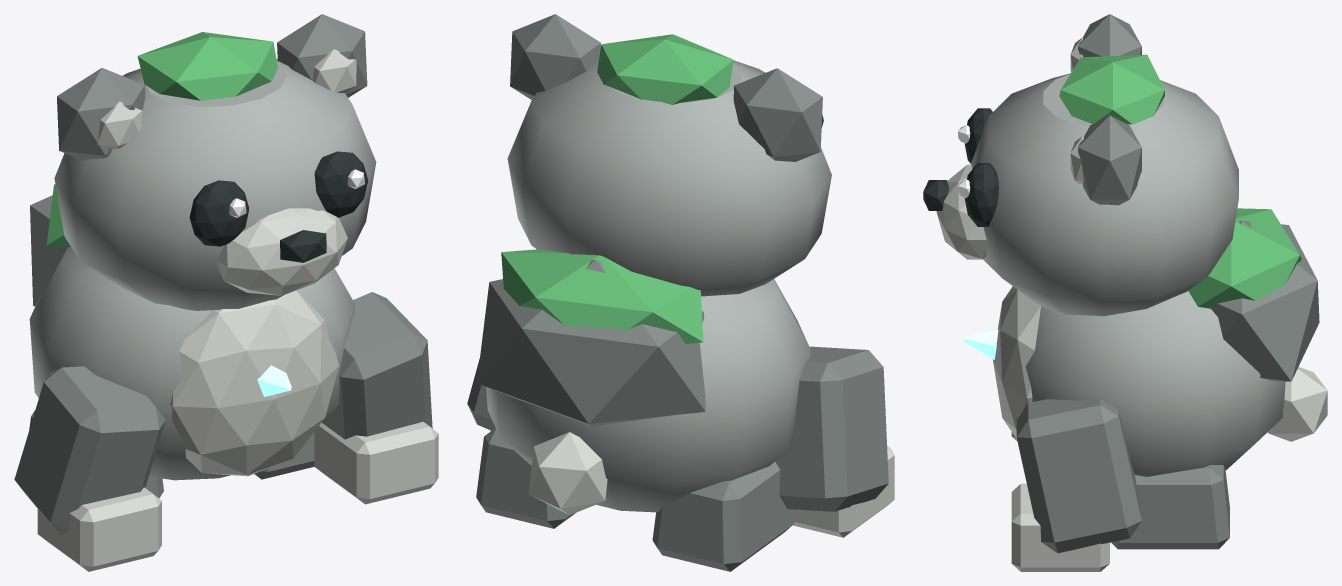
Rendered from PebbleCub.fbx.
3 renders of one model, left to right at view 1: azimuth 30°, elevation 25°; view 2: azimuth 150°, elevation 25°; view 3: azimuth 270°, elevation 25°, orthographic. The views are drawn at different scales.
Parts seen in each view (by area): view 1: PebbleCub; view 2: PebbleCub; view 3: PebbleCub.
Part boxes in pixels (box(x1,y1,x2,y2)): PebbleCub: box(14, 14, 438, 571); PebbleCub: box(467, 14, 894, 571); PebbleCub: box(923, 14, 1327, 571).
Size of the model in its own units: 2.71 by 3.1 by 2.63.
